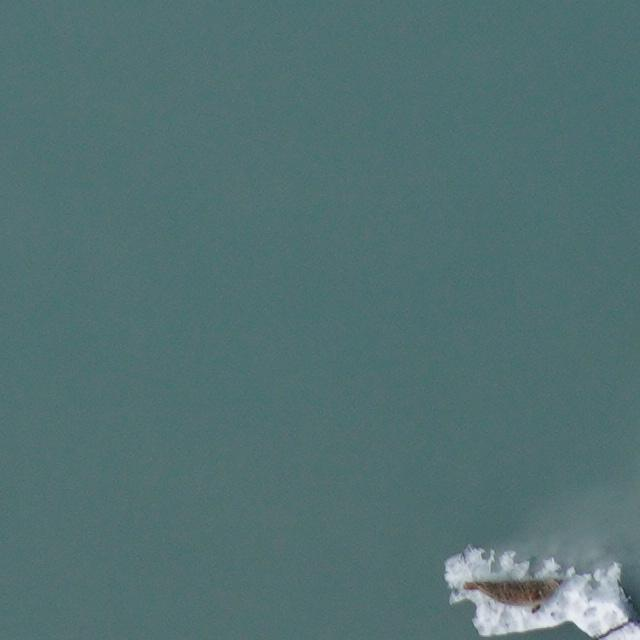seal: (464, 577, 567, 614)
